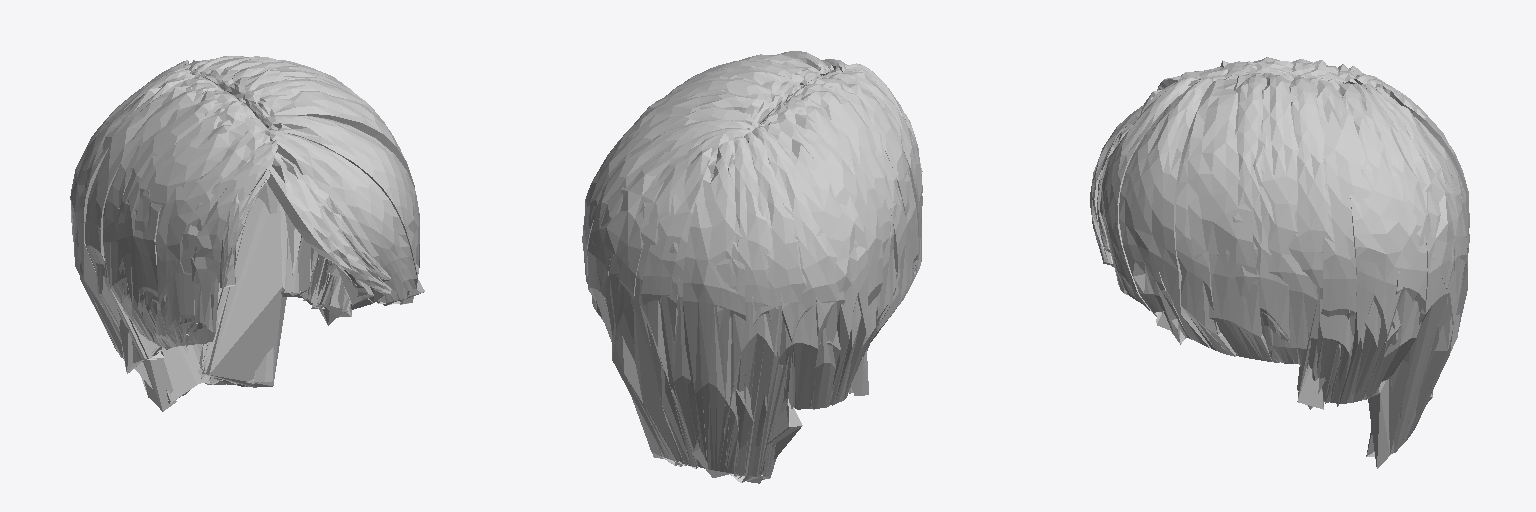
Rendered from fsg.obj.
3 views of the same model, side by side, from view 1: azimuth 30°, elevation 25°; view 2: azimuth 150°, elevation 25°; view 3: azimuth 270°, elevation 25° (orthographic).
Visible parts, largest first — view 1: Item_0_0; view 2: Item_0_0; view 3: Item_0_0.
Part boxes in pixels (x1,y1,x2,y2): Item_0_0: (70, 56, 424, 411); Item_0_0: (582, 51, 922, 483); Item_0_0: (1090, 57, 1469, 468).
Size of the model in its own units: 0.0949 by 0.1209 by 0.1144.